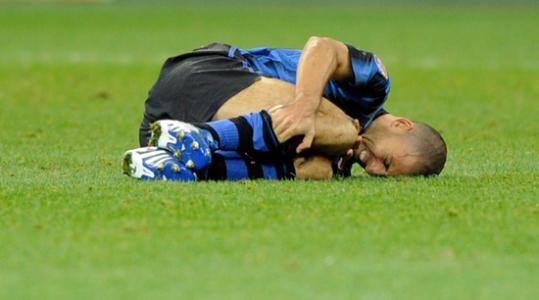falling: (127, 27, 454, 183)
